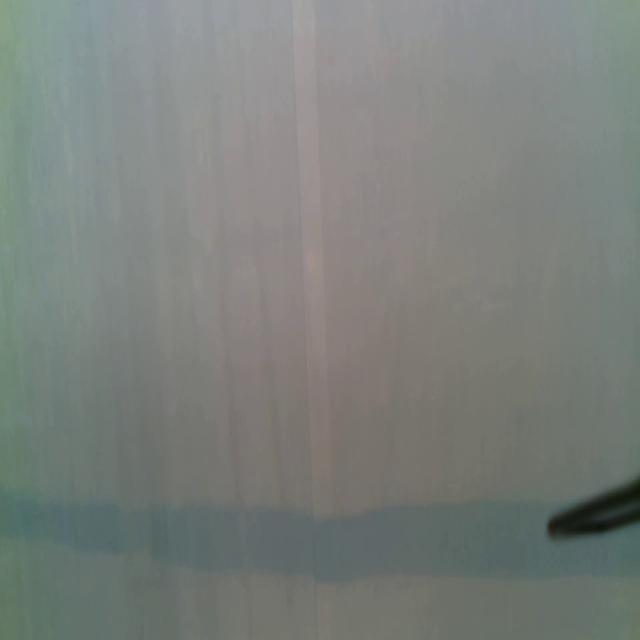color bleeding: (1, 481, 546, 587)
crease: (290, 0, 322, 640)
